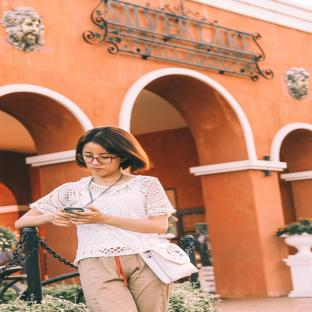Human: (15, 126, 175, 312)
